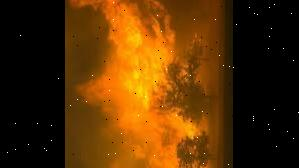fire: (67, 0, 225, 168)
